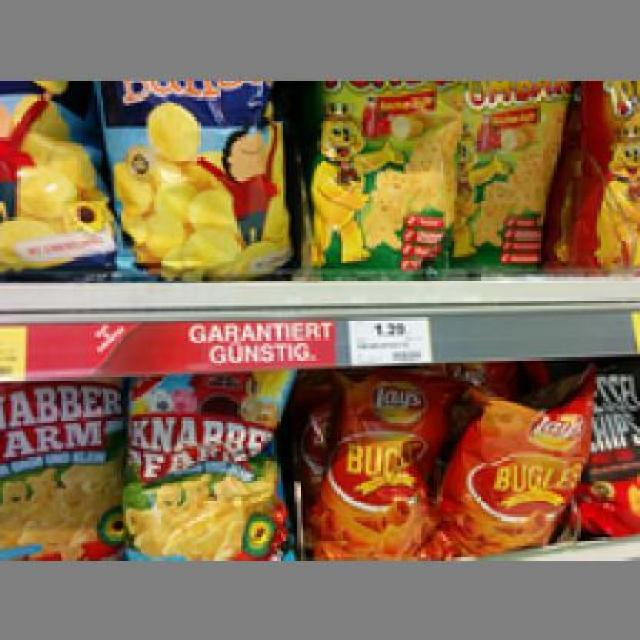Chips: (92, 76, 297, 272), (113, 374, 290, 560), (303, 80, 463, 277), (434, 376, 591, 554), (303, 376, 446, 554), (1, 73, 117, 270), (451, 80, 566, 274), (2, 384, 126, 556)
